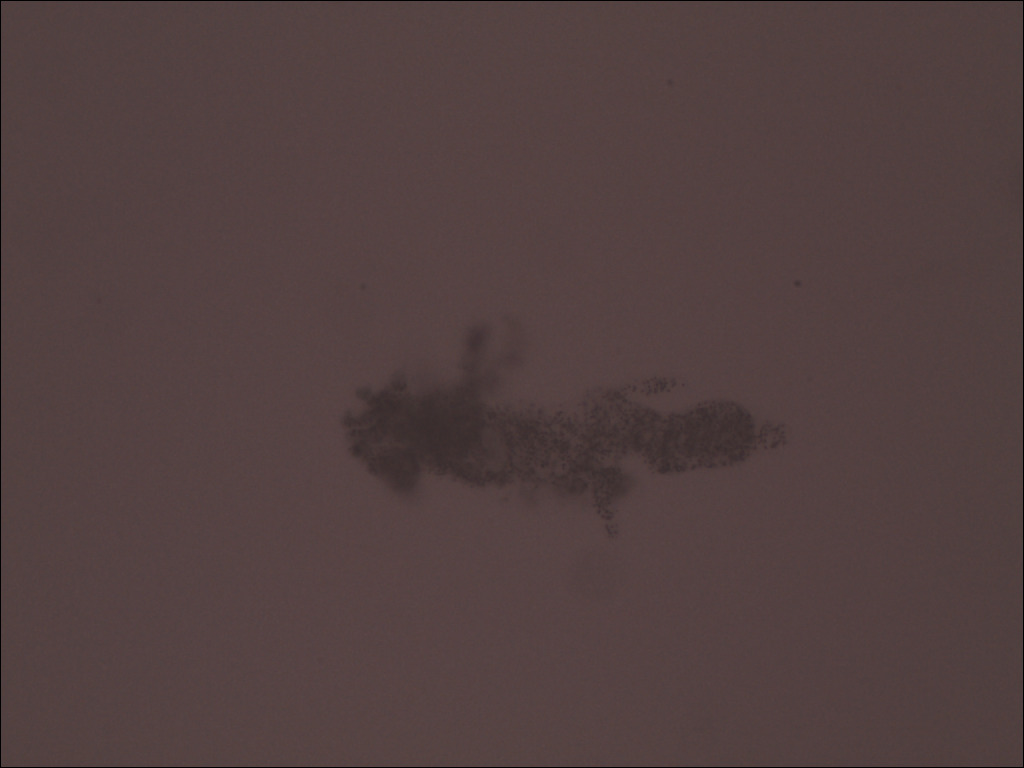amoeba: (331, 305, 835, 553)
